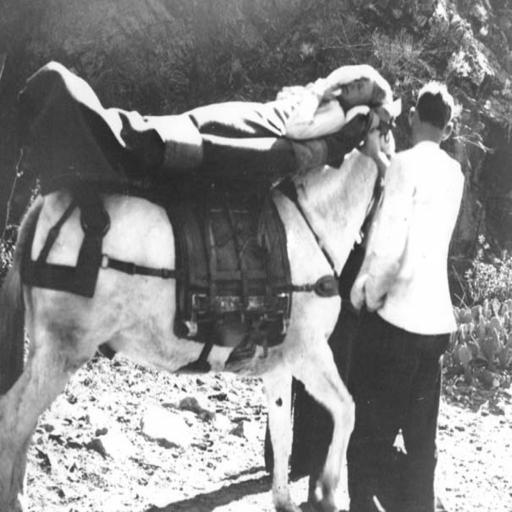Horse: (0, 97, 401, 512)
